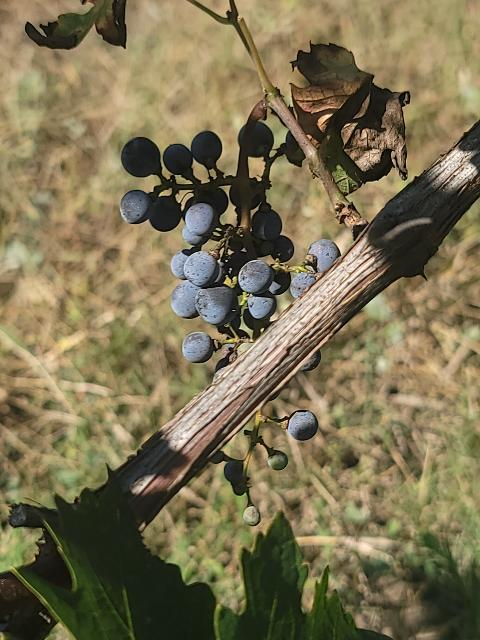grapes: (120, 121, 300, 378)
